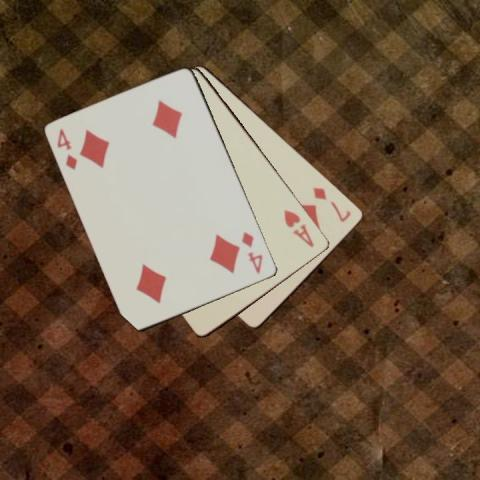4d: (238, 229, 264, 275), (54, 125, 79, 172)
7d: (310, 184, 353, 223)
Ah: (281, 206, 316, 249)
